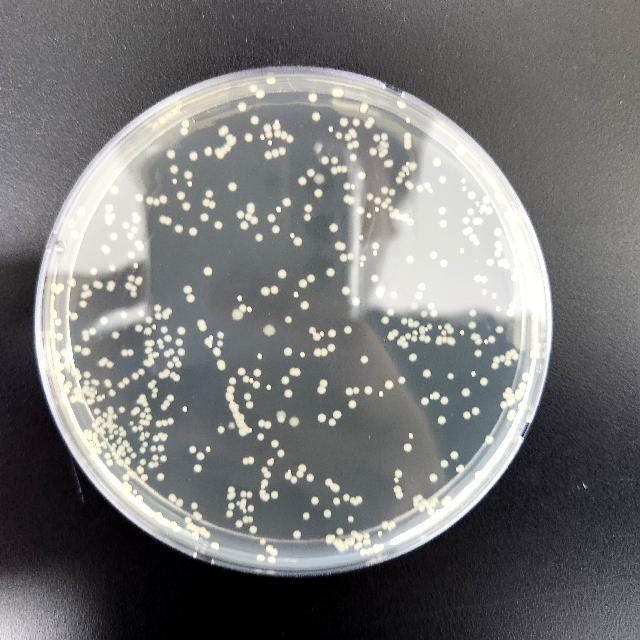colony: (262, 324, 276, 336), (231, 308, 243, 320), (219, 124, 229, 136), (314, 173, 324, 184), (314, 142, 324, 152), (230, 403, 240, 413), (226, 136, 236, 146), (330, 483, 340, 493), (212, 346, 222, 356), (289, 416, 299, 426), (446, 336, 456, 346), (200, 212, 210, 222), (81, 346, 91, 356), (308, 92, 318, 102), (260, 286, 270, 296), (228, 182, 238, 192), (300, 300, 310, 310), (384, 380, 394, 390), (329, 222, 339, 232), (352, 296, 361, 306), (339, 117, 348, 127), (348, 399, 358, 408), (403, 442, 412, 452), (177, 190, 186, 200), (188, 227, 198, 236), (358, 170, 367, 180), (312, 112, 321, 121), (318, 413, 327, 422), (508, 408, 516, 418), (191, 532, 199, 542), (70, 369, 80, 377), (256, 554, 266, 562), (276, 410, 286, 418), (334, 242, 344, 250), (135, 276, 143, 286), (204, 146, 212, 156), (102, 244, 110, 254), (384, 160, 394, 168), (218, 360, 226, 370), (284, 346, 292, 356), (304, 204, 314, 212), (74, 344, 82, 354), (332, 411, 342, 419), (271, 148, 279, 158), (484, 435, 494, 443), (422, 369, 432, 377), (278, 146, 286, 156), (255, 90, 265, 98), (250, 116, 260, 124), (480, 376, 488, 386), (408, 353, 418, 361), (266, 214, 276, 222), (282, 198, 292, 206), (472, 406, 480, 416), (112, 330, 120, 340), (184, 284, 192, 294), (204, 266, 212, 276), (328, 328, 336, 338), (314, 188, 322, 198), (240, 220, 248, 230), (326, 268, 336, 276), (298, 280, 308, 288), (278, 269, 286, 279), (507, 393, 515, 402), (333, 540, 342, 548), (332, 89, 341, 97), (398, 101, 407, 109), (318, 386, 327, 394), (238, 102, 246, 111), (187, 294, 196, 302), (306, 473, 314, 482), (177, 326, 186, 334), (170, 164, 178, 173), (160, 194, 168, 203), (167, 150, 176, 158), (174, 225, 183, 233), (244, 134, 253, 142), (294, 237, 302, 246), (342, 286, 351, 294), (298, 177, 306, 186), (106, 419, 114, 428), (51, 309, 58, 319), (200, 526, 207, 536), (244, 305, 252, 313), (514, 392, 522, 400), (404, 138, 412, 146), (62, 386, 70, 394), (82, 386, 90, 394), (496, 194, 504, 202), (506, 412, 514, 420), (336, 89, 344, 97), (361, 103, 369, 111), (227, 492, 235, 500), (135, 240, 143, 248), (96, 282, 104, 290), (465, 227, 473, 235), (160, 433, 168, 441), (376, 290, 384, 298), (61, 349, 69, 357), (284, 472, 292, 480), (104, 379, 112, 387), (272, 123, 280, 131), (133, 216, 141, 224), (247, 202, 255, 210), (360, 106, 368, 114), (56, 332, 64, 340), (280, 131, 288, 139), (352, 140, 360, 148), (212, 542, 220, 550), (130, 284, 138, 292), (388, 188, 396, 196), (320, 348, 328, 356), (416, 184, 424, 192), (474, 471, 482, 479), (421, 499, 429, 507), (100, 317, 108, 325), (516, 252, 524, 260), (522, 372, 530, 380), (199, 324, 207, 332), (404, 142, 412, 150), (116, 458, 124, 466), (504, 211, 512, 219), (152, 434, 160, 442), (294, 368, 302, 376), (456, 465, 464, 473), (518, 382, 526, 390), (381, 521, 389, 529), (164, 217, 172, 225), (125, 282, 133, 290), (270, 548, 278, 556), (226, 393, 234, 401), (137, 466, 145, 474), (265, 544, 273, 552), (313, 333, 321, 341), (263, 124, 271, 132), (239, 428, 247, 436), (208, 201, 216, 209), (330, 167, 338, 175), (71, 230, 79, 238), (409, 162, 417, 170), (430, 309, 438, 317), (274, 130, 282, 138), (252, 381, 260, 389), (394, 485, 402, 493), (264, 421, 272, 429), (474, 274, 482, 282), (122, 221, 130, 229), (356, 206, 364, 214), (249, 85, 257, 93), (78, 207, 86, 215), (402, 213, 410, 221), (131, 226, 139, 234), (432, 391, 440, 399), (328, 418, 336, 426), (68, 278, 76, 286), (136, 494, 144, 502), (168, 493, 176, 501), (181, 120, 189, 128), (286, 135, 294, 143), (202, 199, 210, 207), (152, 198, 160, 206), (128, 251, 136, 259), (420, 310, 428, 318), (406, 181, 414, 189), (105, 204, 113, 212), (302, 512, 310, 520), (197, 452, 205, 460), (352, 386, 360, 394), (371, 274, 379, 282), (308, 326, 316, 334), (127, 274, 135, 282), (106, 360, 114, 368), (339, 253, 347, 261), (418, 283, 426, 291), (290, 476, 298, 484), (271, 440, 279, 448), (469, 234, 477, 242), (111, 186, 119, 194), (176, 498, 184, 506), (228, 421, 236, 429), (381, 133, 389, 141), (327, 344, 335, 352), (296, 470, 304, 478), (135, 193, 143, 201), (387, 308, 395, 316), (89, 327, 97, 335), (160, 454, 168, 462), (463, 411, 471, 419), (372, 242, 380, 250), (395, 176, 403, 184), (79, 300, 87, 308), (488, 335, 496, 343), (440, 459, 448, 467), (438, 206, 446, 214), (167, 394, 175, 402), (467, 191, 475, 199), (360, 355, 368, 363), (395, 469, 403, 477), (83, 370, 91, 378), (239, 304, 247, 312), (271, 490, 279, 498), (406, 255, 414, 263), (298, 464, 306, 472), (311, 497, 319, 505), (343, 182, 351, 190), (264, 151, 272, 159), (345, 387, 353, 395), (249, 525, 257, 533), (486, 258, 494, 266), (293, 530, 301, 538), (250, 217, 258, 225), (373, 134, 381, 142), (255, 233, 263, 241), (154, 304, 162, 312), (440, 259, 448, 267), (323, 509, 331, 517), (246, 401, 254, 409), (206, 190, 214, 198), (494, 228, 502, 236), (462, 216, 470, 224), (407, 218, 415, 226), (146, 197, 154, 205), (110, 232, 118, 240), (154, 312, 162, 320), (450, 451, 458, 459), (144, 327, 152, 335), (374, 197, 382, 205), (381, 186, 389, 194), (495, 325, 503, 333), (320, 379, 328, 387), (421, 397, 429, 405), (366, 193, 374, 201), (237, 367, 245, 375), (469, 309, 477, 317), (175, 338, 183, 346), (277, 449, 285, 457), (254, 369, 262, 377), (272, 225, 280, 233), (439, 219, 447, 227), (182, 202, 190, 210), (344, 326, 352, 334), (135, 324, 143, 332), (430, 473, 438, 481), (70, 312, 78, 320), (468, 321, 476, 329), (433, 158, 441, 166), (398, 376, 406, 384), (177, 348, 185, 356), (441, 396, 449, 404), (381, 316, 389, 324), (331, 156, 339, 164), (194, 464, 202, 472), (364, 386, 372, 394), (352, 118, 360, 126), (236, 210, 244, 218), (369, 147, 377, 155), (284, 389, 292, 397), (307, 169, 315, 177), (281, 376, 289, 384), (321, 156, 329, 164), (215, 221, 223, 229), (462, 388, 470, 396), (190, 152, 198, 160), (184, 171, 192, 179), (157, 472, 165, 480), (307, 274, 315, 282), (438, 416, 446, 424), (271, 286, 279, 294), (446, 500, 454, 508), (54, 318, 61, 327), (197, 319, 206, 326), (266, 78, 276, 84), (425, 334, 431, 344), (326, 534, 332, 544), (74, 394, 82, 401), (160, 116, 167, 124), (125, 457, 132, 465), (464, 228, 471, 236), (68, 220, 76, 227), (389, 520, 396, 528), (163, 368, 170, 376), (195, 512, 202, 520), (262, 494, 270, 501), (470, 334, 478, 341), (106, 459, 114, 466), (404, 132, 411, 140), (105, 452, 112, 460), (344, 195, 351, 203), (122, 474, 130, 481), (244, 213, 252, 220), (243, 392, 250, 400), (160, 215, 167, 223), (120, 349, 128, 356), (235, 520, 242, 528), (344, 493, 351, 501), (228, 502, 235, 510), (158, 444, 165, 452), (173, 374, 180, 382), (484, 196, 491, 204), (474, 349, 482, 356), (439, 176, 446, 184), (175, 102, 182, 110), (338, 547, 347, 553), (58, 373, 64, 382), (530, 349, 536, 358), (165, 349, 172, 356), (339, 243, 346, 250), (238, 414, 245, 421), (108, 389, 115, 396), (127, 484, 133, 492), (217, 152, 225, 158), (55, 351, 61, 359), (247, 208, 255, 214), (378, 286, 386, 292), (350, 536, 356, 544), (360, 548, 366, 556), (518, 402, 526, 408), (506, 350, 512, 358), (237, 422, 245, 428), (226, 134, 234, 140), (373, 544, 379, 552), (120, 312, 128, 318), (170, 521, 178, 527), (186, 524, 194, 530), (514, 389, 522, 395), (290, 368, 296, 376), (107, 284, 115, 290), (442, 336, 448, 344), (268, 556, 276, 562), (134, 406, 140, 414), (51, 283, 57, 291), (397, 338, 403, 346), (106, 406, 114, 412), (82, 335, 90, 341), (382, 142, 390, 148), (214, 148, 222, 154), (512, 214, 518, 222), (428, 508, 434, 516), (500, 402, 508, 408), (444, 496, 452, 502), (368, 116, 374, 124), (356, 534, 364, 540), (145, 348, 153, 354), (350, 530, 358, 536), (108, 280, 114, 288), (58, 283, 64, 291), (140, 394, 146, 402), (184, 516, 192, 522), (204, 338, 212, 344), (418, 336, 426, 342), (163, 312, 169, 320), (110, 264, 116, 272), (364, 122, 372, 128), (504, 360, 512, 366), (80, 292, 88, 298), (180, 128, 188, 134), (494, 241, 502, 247), (130, 291, 138, 297), (248, 456, 254, 464), (242, 376, 250, 382), (492, 356, 500, 362), (154, 512, 162, 518), (347, 142, 353, 150), (264, 472, 272, 478), (390, 292, 398, 298), (356, 495, 362, 503), (227, 386, 235, 392), (400, 318, 408, 324), (132, 372, 138, 380), (398, 171, 406, 177), (240, 490, 246, 498), (146, 316, 152, 324), (380, 202, 388, 208), (508, 309, 514, 317), (428, 302, 434, 310), (164, 350, 170, 358), (242, 457, 248, 465), (466, 209, 474, 215), (128, 348, 134, 356), (90, 268, 98, 274), (344, 134, 352, 140), (448, 372, 454, 380), (349, 154, 357, 160), (128, 232, 134, 240), (247, 491, 253, 499), (122, 378, 130, 384), (138, 368, 144, 376), (248, 504, 254, 512), (226, 510, 234, 516), (326, 478, 332, 486), (336, 528, 344, 534), (229, 378, 237, 384), (430, 252, 438, 258), (160, 326, 168, 332), (166, 362, 174, 368), (82, 284, 90, 290), (348, 252, 354, 260), (164, 336, 172, 342), (189, 446, 197, 452), (314, 349, 320, 357), (333, 498, 341, 504), (65, 361, 71, 369), (50, 294, 56, 302), (92, 438, 100, 444), (138, 243, 144, 250), (85, 429, 92, 435), (481, 205, 487, 212), (233, 412, 240, 418), (223, 144, 230, 150), (364, 538, 371, 544), (131, 409, 137, 416), (348, 198, 354, 205), (144, 339, 150, 346), (260, 489, 266, 496), (473, 218, 479, 225), (509, 349, 516, 355), (144, 359, 150, 366), (393, 329, 399, 336), (162, 419, 168, 426), (513, 354, 519, 361), (436, 509, 442, 516), (203, 532, 210, 538), (82, 329, 88, 336), (388, 334, 394, 341), (444, 323, 451, 329), (163, 400, 170, 406), (165, 308, 172, 314), (342, 165, 348, 172), (359, 255, 366, 261), (509, 302, 516, 308), (258, 419, 264, 426), (228, 486, 235, 492), (168, 418, 175, 424), (175, 361, 182, 367), (486, 208, 492, 215), (304, 213, 310, 220), (424, 182, 431, 188), (218, 332, 225, 338), (218, 426, 225, 432), (142, 474, 148, 481), (258, 434, 264, 441), (353, 499, 359, 506), (138, 310, 144, 316), (54, 358, 60, 364), (260, 484, 266, 490), (122, 487, 128, 493), (436, 339, 442, 345), (50, 332, 56, 338), (357, 541, 363, 547), (114, 454, 120, 460), (194, 526, 200, 532), (55, 288, 61, 294), (94, 280, 100, 286), (507, 400, 513, 406), (148, 353, 154, 359), (174, 526, 180, 532), (430, 500, 436, 506), (354, 544, 360, 550), (90, 386, 96, 392), (441, 498, 447, 504), (496, 192, 502, 198), (240, 505, 246, 511), (86, 398, 92, 404), (401, 166, 407, 172), (344, 538, 350, 544), (400, 336, 406, 342), (336, 166, 342, 172), (142, 401, 148, 407), (96, 416, 102, 422), (477, 218, 483, 224), (408, 318, 414, 324), (193, 510, 199, 516), (109, 214, 115, 220), (502, 258, 508, 264), (432, 496, 438, 502), (436, 336, 442, 342), (136, 398, 142, 404), (90, 393, 96, 399), (502, 392, 508, 398), (106, 219, 112, 225), (408, 322, 414, 328), (393, 208, 399, 214), (149, 340, 155, 346), (514, 268, 520, 274), (417, 494, 423, 500), (350, 497, 356, 503), (127, 446, 133, 452), (389, 212, 395, 218), (268, 458, 274, 464), (396, 214, 402, 220), (92, 432, 98, 438), (418, 505, 424, 511), (102, 357, 108, 363), (138, 425, 144, 431), (348, 129, 354, 135), (406, 333, 412, 339), (144, 420, 150, 426), (448, 327, 454, 333), (248, 378, 254, 384), (66, 382, 72, 388), (278, 416, 284, 422), (504, 263, 510, 269), (374, 206, 380, 212), (123, 440, 129, 446), (350, 184, 356, 190), (158, 372, 164, 378), (378, 152, 384, 158), (70, 396, 76, 402), (412, 496, 418, 502), (74, 388, 80, 394), (412, 329, 418, 335), (92, 422, 98, 428), (372, 250, 378, 256), (118, 426, 124, 432), (262, 480, 268, 486), (94, 380, 100, 386), (169, 348, 175, 354), (116, 438, 122, 444), (108, 434, 114, 440), (170, 372, 176, 378), (290, 232, 296, 238), (352, 132, 358, 138), (99, 361, 105, 367), (248, 516, 254, 522), (157, 338, 163, 344), (148, 461, 154, 467), (414, 321, 420, 327), (242, 516, 248, 522), (427, 324, 433, 330), (96, 395, 102, 401), (494, 250, 500, 256), (364, 532, 370, 538), (512, 275, 518, 281), (130, 452, 136, 458), (144, 432, 150, 438), (161, 404, 167, 410), (86, 290, 92, 296), (328, 126, 334, 132), (476, 338, 482, 344), (84, 380, 90, 386), (217, 340, 223, 346), (458, 148, 464, 154), (150, 445, 156, 451), (111, 442, 117, 448), (102, 412, 108, 418), (408, 433, 414, 439), (396, 492, 402, 498), (172, 178, 178, 184), (416, 292, 422, 298), (146, 414, 152, 420), (262, 466, 268, 472), (120, 430, 126, 436), (411, 336, 417, 342), (182, 406, 188, 412), (132, 426, 138, 432), (140, 458, 146, 464), (386, 198, 392, 204), (402, 342, 408, 348), (118, 382, 124, 388), (286, 316, 292, 322), (148, 382, 154, 388), (276, 206, 282, 212), (153, 454, 159, 460), (172, 356, 178, 362), (482, 276, 488, 282), (260, 538, 266, 544), (140, 412, 146, 418), (492, 363, 498, 369), (156, 421, 162, 427), (119, 406, 125, 412), (506, 387, 512, 393), (348, 516, 354, 522), (266, 132, 272, 138), (266, 384, 272, 390), (192, 502, 198, 508), (94, 408, 100, 414), (336, 132, 342, 138), (85, 390, 91, 396), (172, 109, 178, 115), (367, 548, 373, 554), (344, 544, 350, 550), (76, 428, 82, 434), (108, 427, 114, 433), (532, 278, 536, 286), (500, 354, 504, 362), (78, 398, 85, 402), (60, 364, 64, 371), (419, 330, 426, 334), (388, 330, 392, 336), (108, 415, 112, 421), (128, 470, 132, 476), (422, 328, 428, 332), (111, 446, 115, 452), (111, 450, 115, 456), (141, 432, 145, 438), (76, 376, 82, 380), (380, 544, 384, 550), (100, 441, 106, 445), (498, 246, 502, 252), (158, 432, 162, 438), (208, 342, 212, 348), (92, 378, 96, 384), (91, 398, 95, 404), (88, 441, 94, 445), (96, 428, 102, 432), (97, 448, 101, 454), (88, 434, 92, 440), (139, 419, 145, 423), (274, 120, 280, 124), (430, 394, 434, 400), (123, 482, 129, 486), (420, 326, 424, 332), (118, 446, 124, 450), (154, 352, 158, 358), (133, 212, 139, 216), (394, 478, 400, 482), (236, 500, 240, 506), (498, 260, 502, 266), (382, 150, 388, 154), (102, 394, 106, 400), (114, 430, 118, 436), (242, 498, 246, 504), (358, 262, 364, 266), (482, 289, 486, 295), (442, 330, 446, 336), (112, 414, 118, 418), (378, 531, 382, 537), (492, 293, 496, 299), (246, 308, 252, 312), (320, 332, 326, 336), (496, 306, 500, 312), (438, 324, 442, 330), (429, 188, 433, 194), (152, 388, 158, 392), (206, 446, 210, 452), (388, 206, 394, 210), (460, 330, 464, 336), (160, 344, 164, 350), (260, 134, 264, 140), (358, 236, 364, 240), (474, 240, 480, 244), (378, 392, 384, 396), (142, 442, 148, 446), (152, 392, 156, 398), (152, 324, 156, 330), (300, 352, 306, 356), (462, 186, 466, 192), (134, 262, 138, 268), (140, 448, 146, 452), (144, 408, 150, 412), (188, 181, 192, 187), (366, 214, 372, 218), (534, 346, 538, 352), (94, 389, 98, 395), (67, 310, 71, 316), (350, 542, 354, 548), (96, 442, 100, 448), (94, 446, 98, 452), (91, 448, 95, 454), (126, 442, 130, 448), (312, 331, 316, 335), (103, 445, 107, 449), (331, 535, 335, 539), (102, 424, 106, 428), (414, 502, 418, 506), (512, 259, 516, 263), (104, 438, 108, 442), (243, 509, 247, 513), (102, 430, 106, 434), (150, 360, 154, 364), (152, 380, 156, 384), (140, 436, 144, 440), (406, 162, 410, 166), (249, 428, 253, 432), (114, 424, 118, 428), (287, 469, 291, 473), (479, 209, 483, 213), (209, 335, 213, 339), (406, 118, 410, 122), (133, 490, 137, 494), (155, 462, 159, 466), (484, 340, 488, 344), (122, 452, 126, 456), (513, 243, 517, 247), (405, 171, 409, 175), (258, 354, 262, 358), (475, 202, 479, 206), (129, 421, 133, 425), (462, 179, 466, 183), (460, 248, 464, 252), (472, 372, 476, 376), (268, 141, 272, 145), (238, 296, 242, 300), (294, 292, 298, 296), (388, 526, 392, 530), (532, 315, 534, 319)
